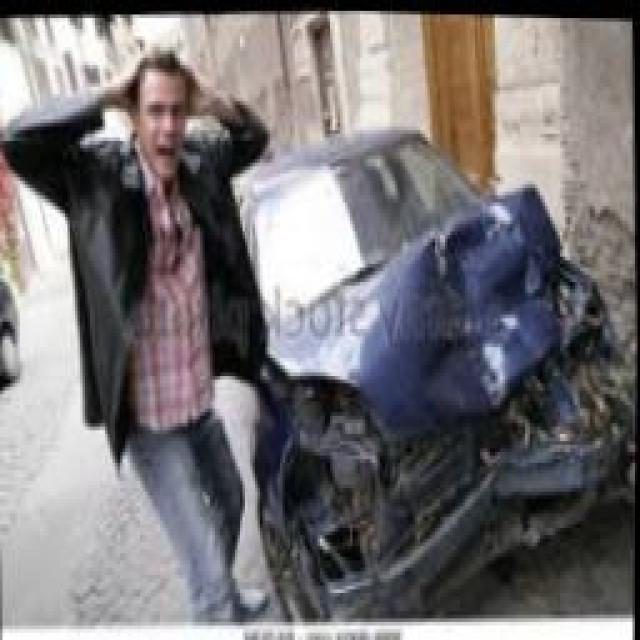Bonnet: (242, 169, 558, 439)
Bumper: (262, 306, 637, 620)
Light: (286, 375, 385, 454), (551, 257, 594, 342)
